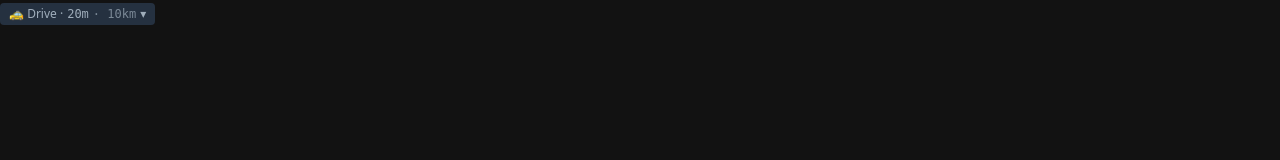
Test: StepChip › says so when directions are unavailable
Click the button with aria-label "Drive — details" at (78, 12), box [0,1,155,23]
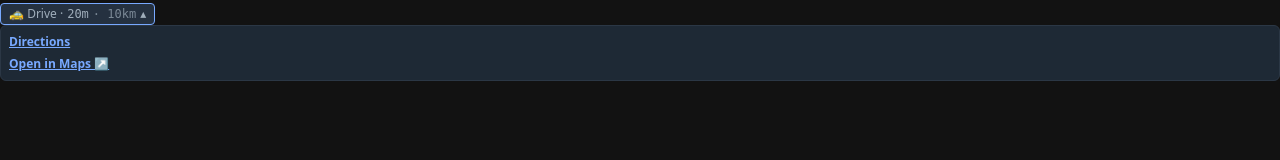
Click the button "Directions" at (40, 42), box [9,34,70,50]
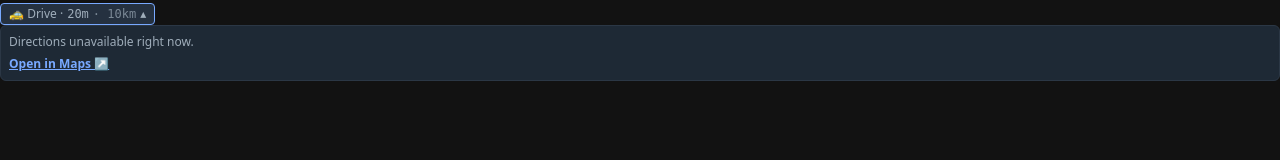
Result: the text "Directions unavailable right now." is shown at [9,33,194,50]
